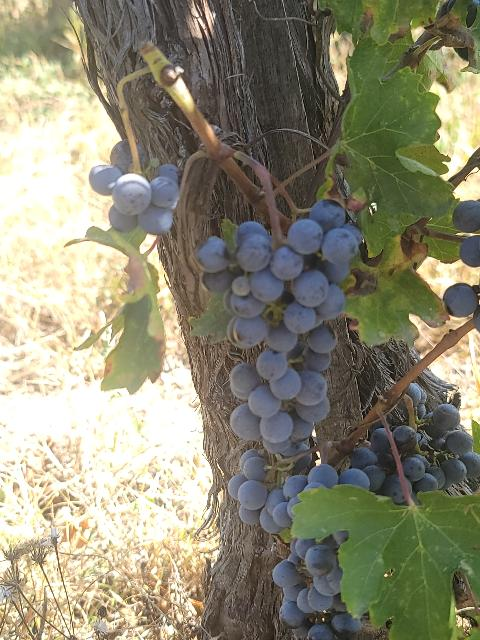grapes: (196, 200, 364, 456), (228, 450, 360, 534), (391, 382, 480, 495), (272, 536, 360, 640), (89, 140, 179, 234)
